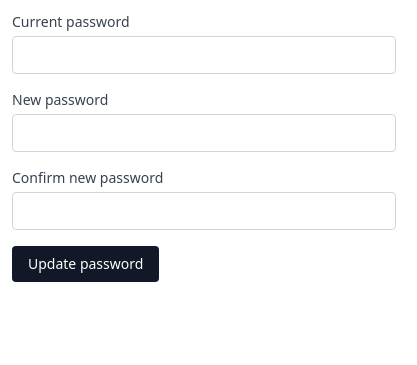
Test: ChangePasswordForm › blocks submission when the new password and confirmation don't match
Type "oldpassword" into the password field labelled "Current password" at {"x": 204, "y": 55}, box [12,36,396,74]
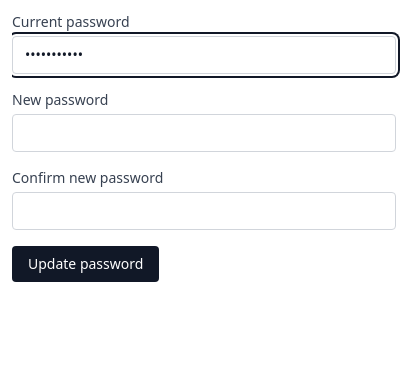
Type "newpassword1" into the password field labelled "New password" at {"x": 204, "y": 133}, box [12,114,396,152]
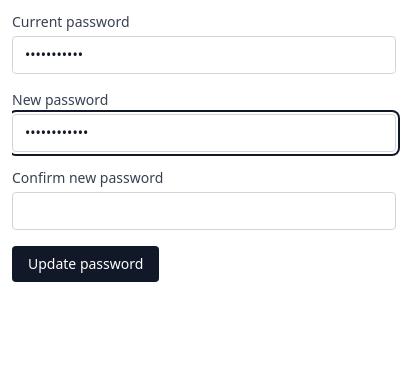
Type "newpassword2" into the password field labelled "Confirm new password" at {"x": 204, "y": 211}, box [12,192,396,230]
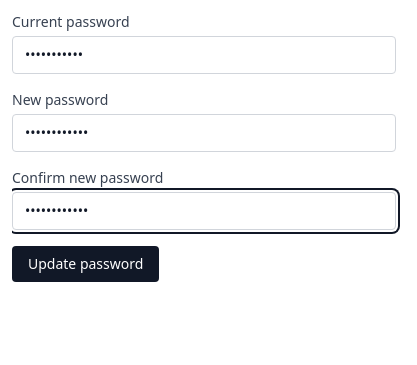
Click the button "Update password" at {"x": 86, "y": 264}, box [12,246,159,282]
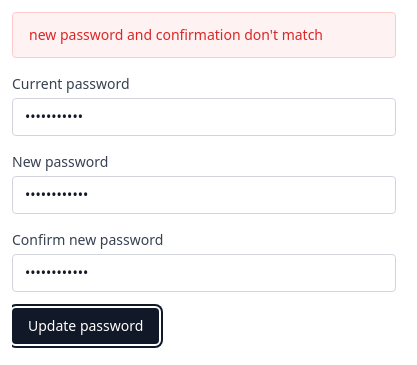
Result: the message shows "don't match" at [29,25,323,44]
